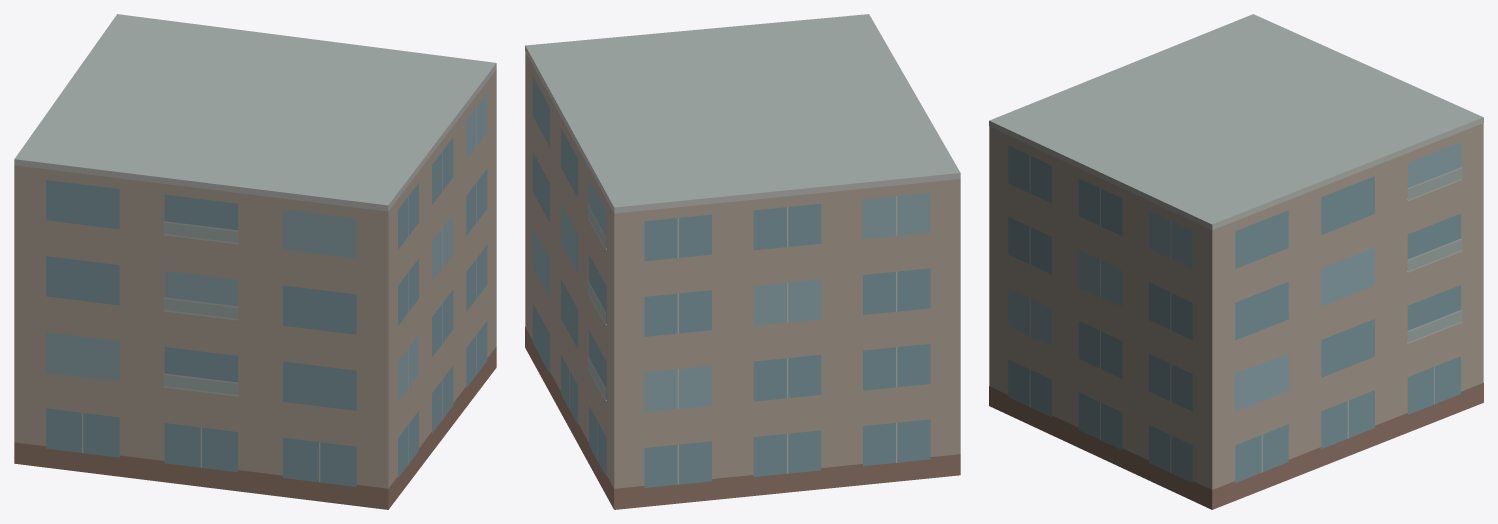
Rendered from survey-upis-32838844.glb.
3 views of the same model, side by side, from view 1: azimuth 30°, elevation 25°; view 2: azimuth 150°, elevation 25°; view 3: azimuth 270°, elevation 25° (orthographic). The views are drawn at different scales.
Visible parts, largest first — view 1: survey-upis-32838844.tmp; view 2: survey-upis-32838844.tmp; view 3: survey-upis-32838844.tmp.
Part boxes in pixels (<box>): survey-upis-32838844.tmp: <box>14,14,496,509</box>; survey-upis-32838844.tmp: <box>525,14,960,509</box>; survey-upis-32838844.tmp: <box>989,14,1483,509</box>.
Bounding box in the file's own units: 19.31 × 12.2 × 19.18.
